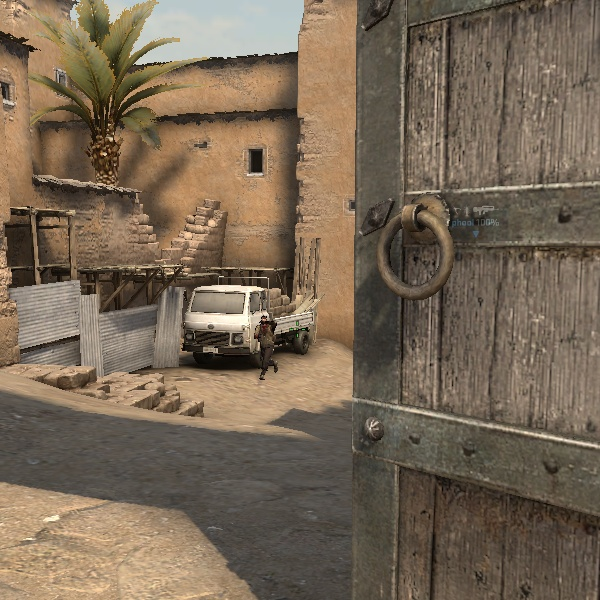t_body: (254, 315, 278, 382)
t_head: (260, 315, 268, 329)
